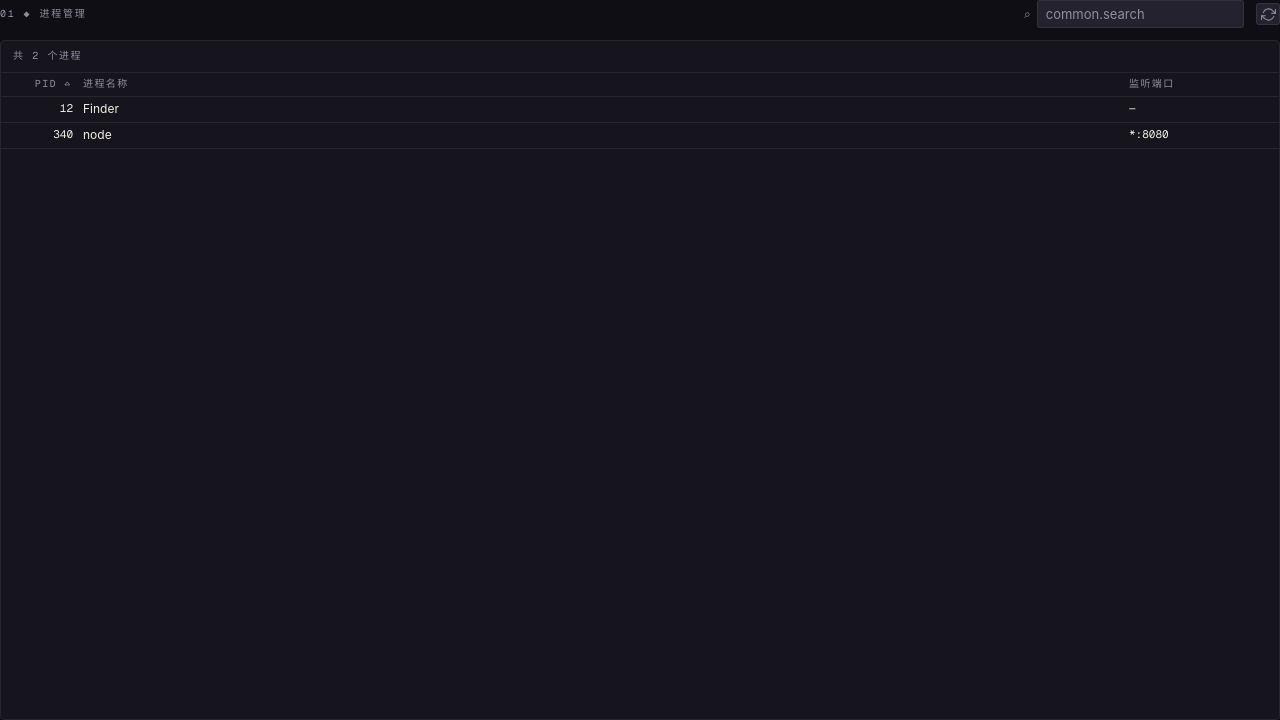
Test: Processes › 双击一行弹出结束进程确认框
The image size is (1280, 720).
Expected: the text "Finder" is shown, [83,102,119,116]
Double-click the element showing "12 Finder —" at [640, 110], box [1,97,1279,123]
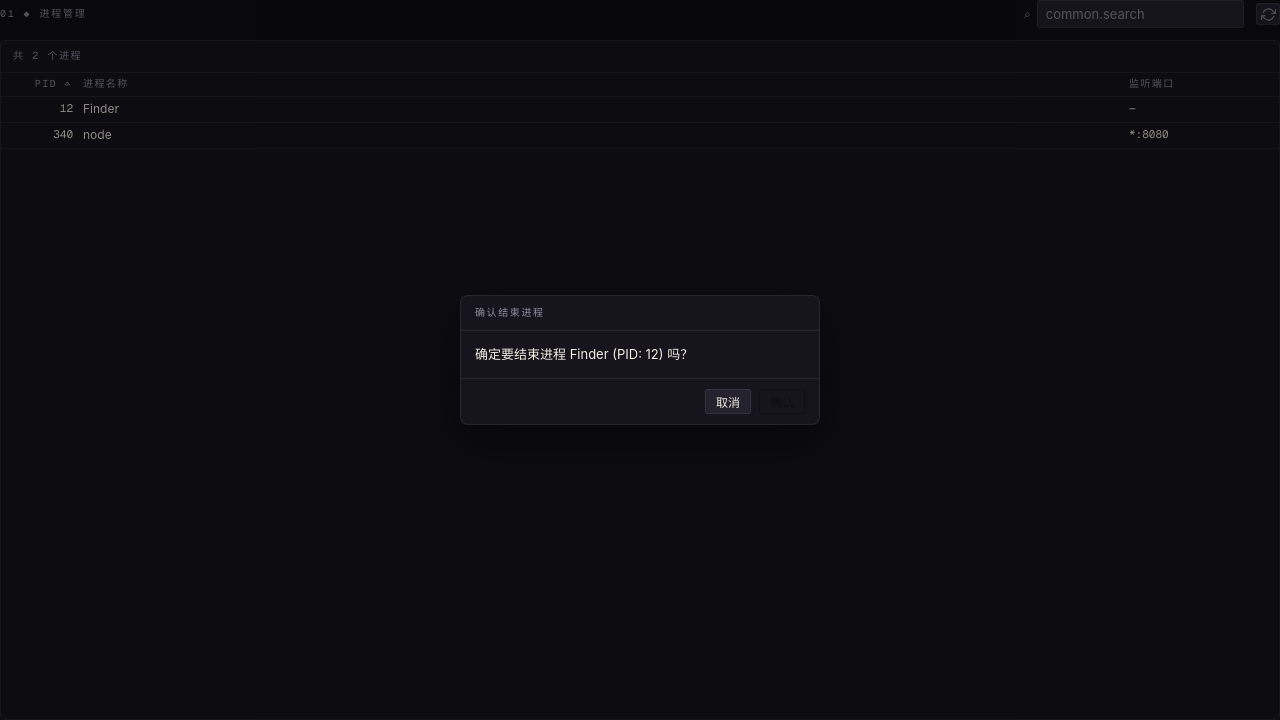
Expected: the text "确认结束进程" is shown, [461,296,819,331]
Expected: the text "确定要结束进程 Finder (PID: 12) 吗？" is shown, [475,346,693,362]
